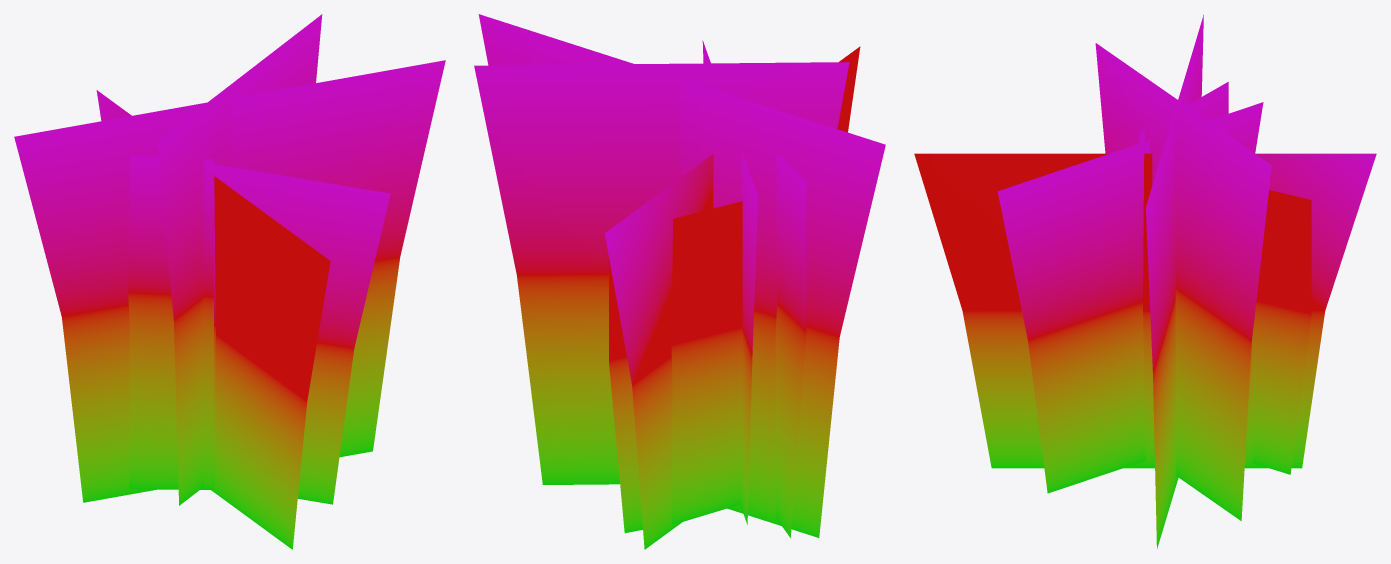
File: Grass_03.fbx
3 renders of one model, left to right at view 1: azimuth 30°, elevation 25°; view 2: azimuth 150°, elevation 25°; view 3: azimuth 270°, elevation 25°, orthographic. The views are drawn at different scales.
Parts seen in each view (by area): view 1: Grass_13; view 2: Grass_13; view 3: Grass_13.
Boxes of the visible parts, box(x1,y1,x2,y2) form: Grass_13: box(14, 14, 445, 549); Grass_13: box(474, 14, 885, 549); Grass_13: box(914, 14, 1376, 548).
Size of the model in its own units: 1.01 by 0.9388 by 1.01.
